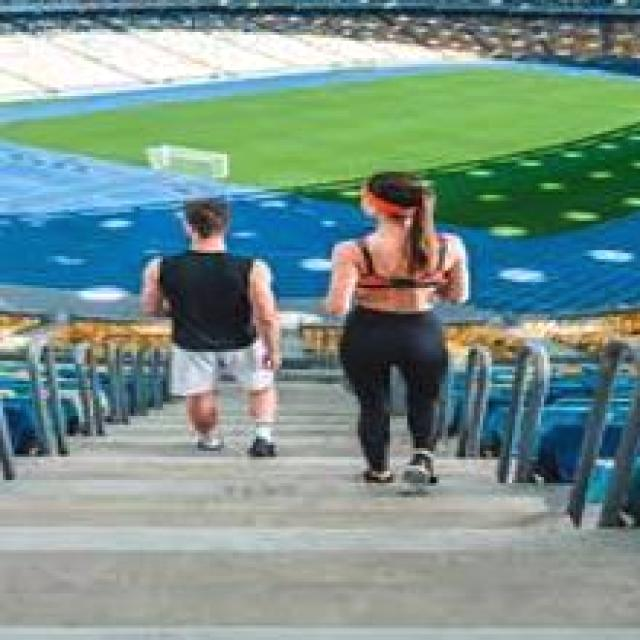downstair: (47, 414, 516, 586)
